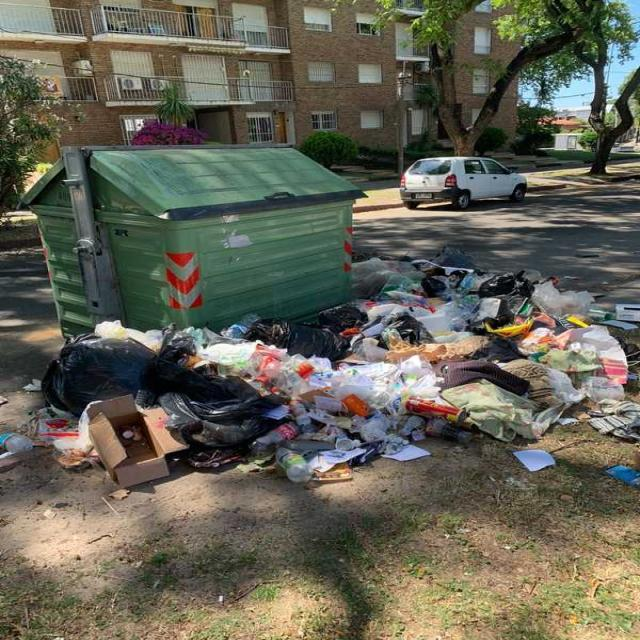garbage: (10, 304, 640, 489), (352, 242, 639, 316)
